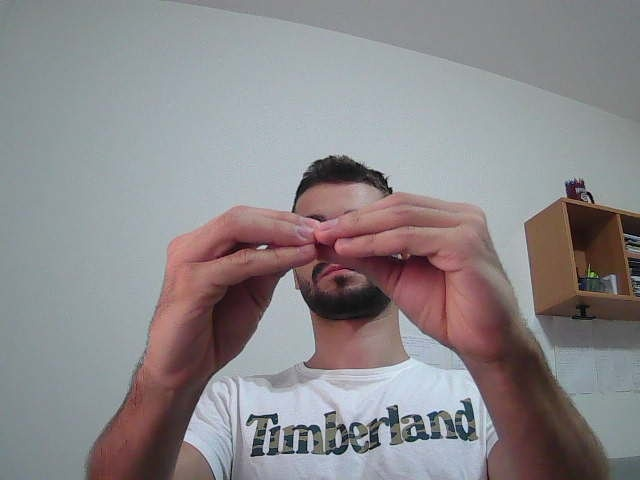b: (121, 182, 581, 405)
